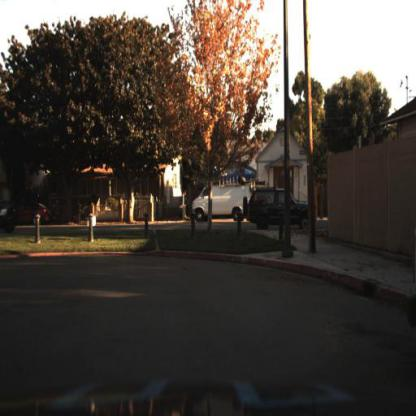car: (189, 178, 257, 225), (247, 186, 311, 232), (11, 199, 52, 230)
truck: (193, 174, 256, 223)
